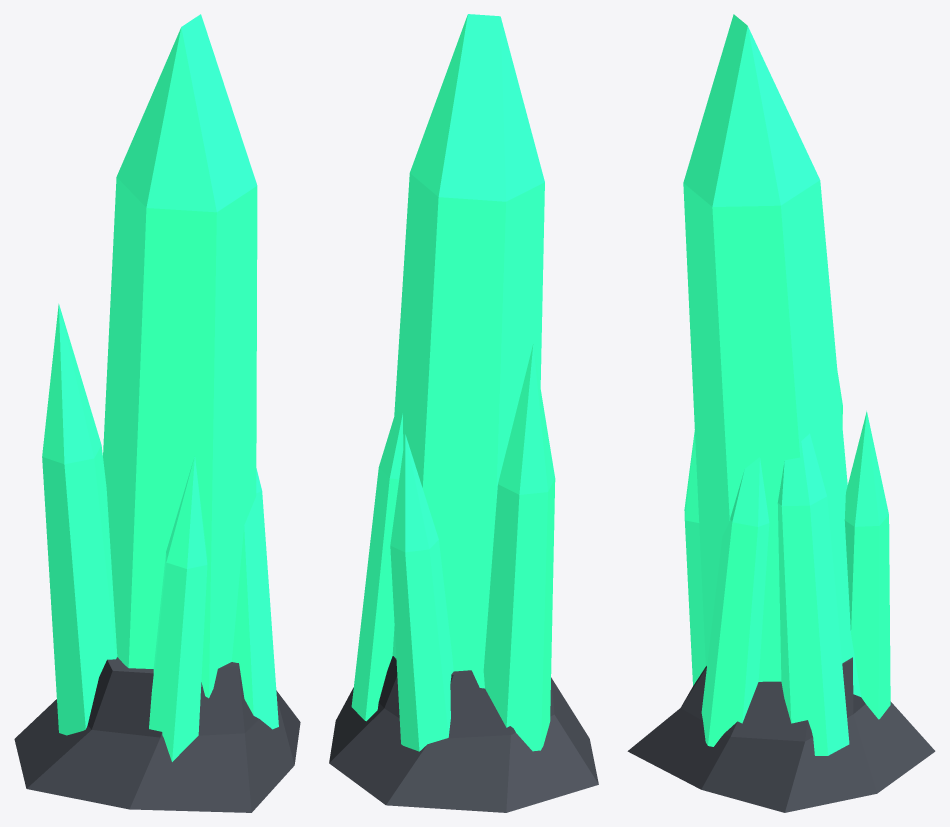
The model's file is PROP_04_TallCrystalFormation.fbx.
The picture shows the model from 3 angles, left to right: view 1: azimuth 30°, elevation 25°; view 2: azimuth 150°, elevation 25°; view 3: azimuth 270°, elevation 25°; orthographic projection. The views are drawn at different scales.
Parts seen in each view (by area): view 1: PROP_04_TallCrystalFormation; view 2: PROP_04_TallCrystalFormation; view 3: PROP_04_TallCrystalFormation.
Boxes of the visible parts, <box> form: PROP_04_TallCrystalFormation: <box>14,14,300,812</box>; PROP_04_TallCrystalFormation: <box>329,14,598,812</box>; PROP_04_TallCrystalFormation: <box>627,14,935,812</box>.
Size of the model in its own units: 139 by 363 by 139.
